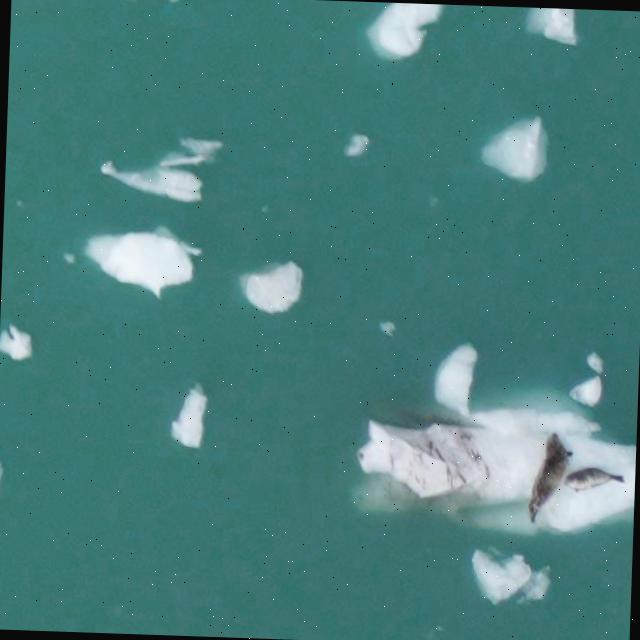seal: (524, 427, 577, 531), (561, 460, 625, 494)
